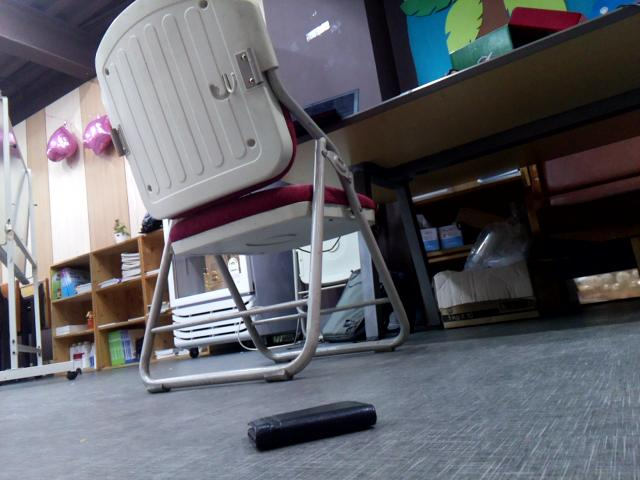wallet: (230, 393, 387, 459)
